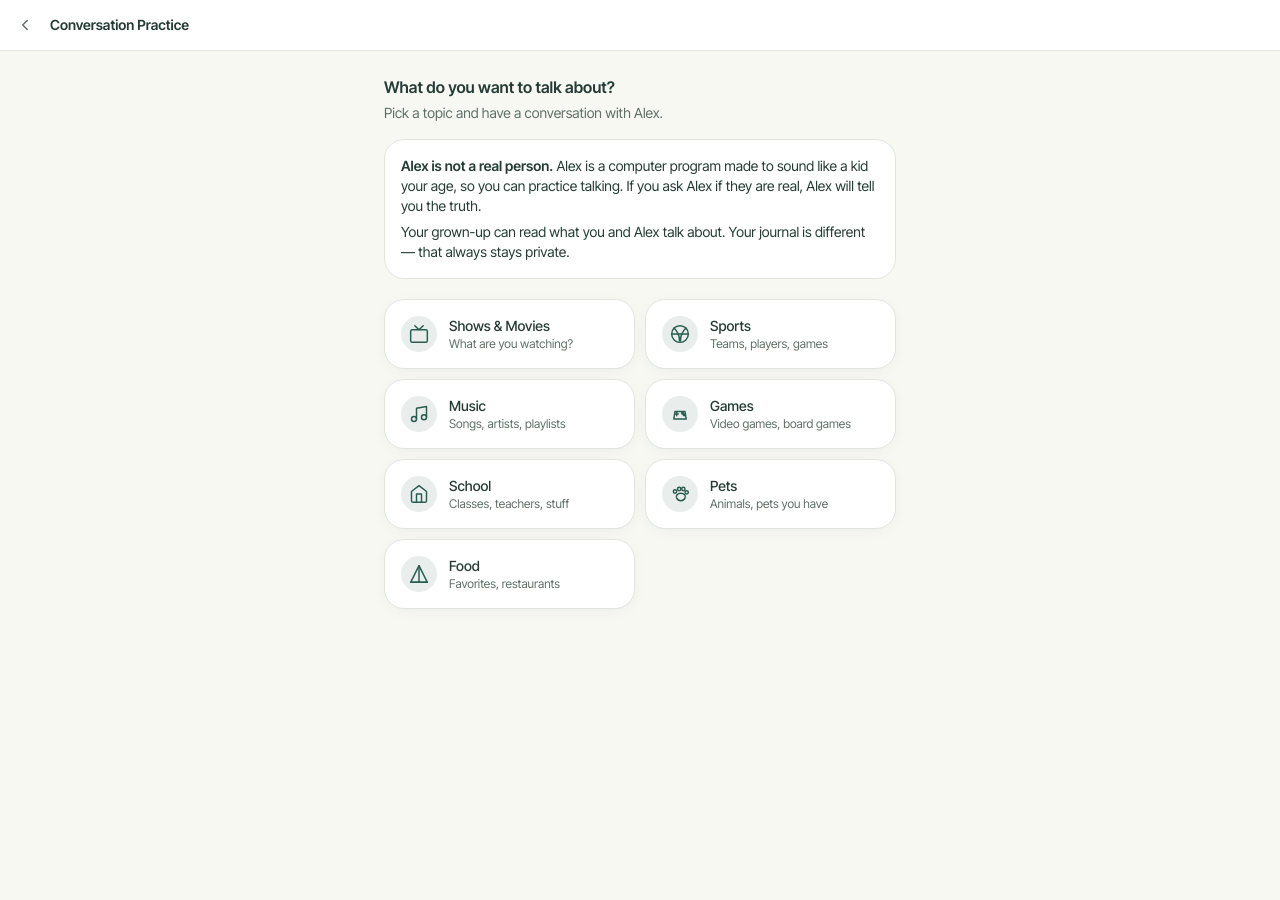
Test case: starts the Music topic using its ID
Click the button "Music Songs, artists, playlists".
click(510, 414)  # box x1=384 y1=379 x2=635 y2=449
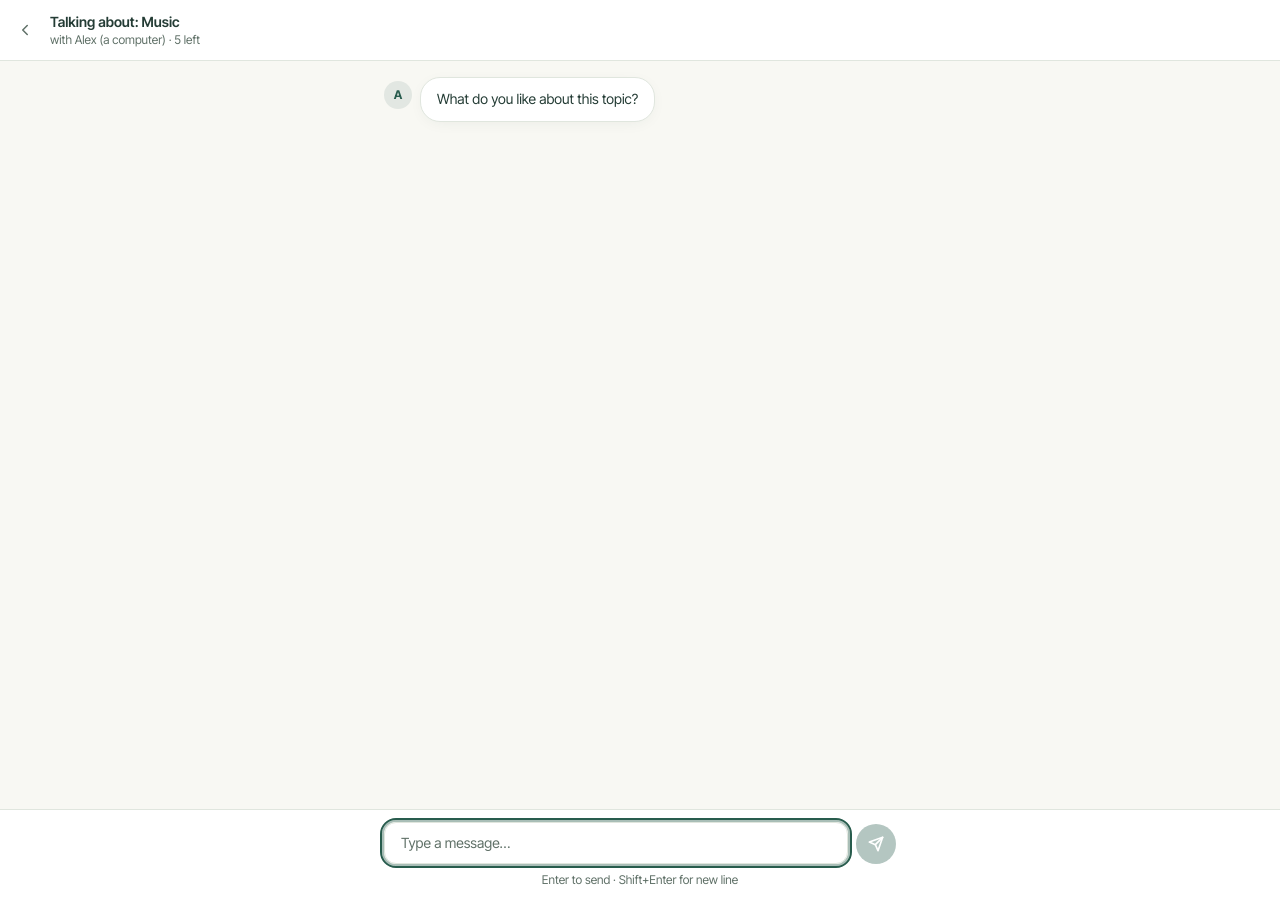
Check: the text "What do you like about this topic?" is shown, box x1=420 y1=77 x2=655 y2=122
